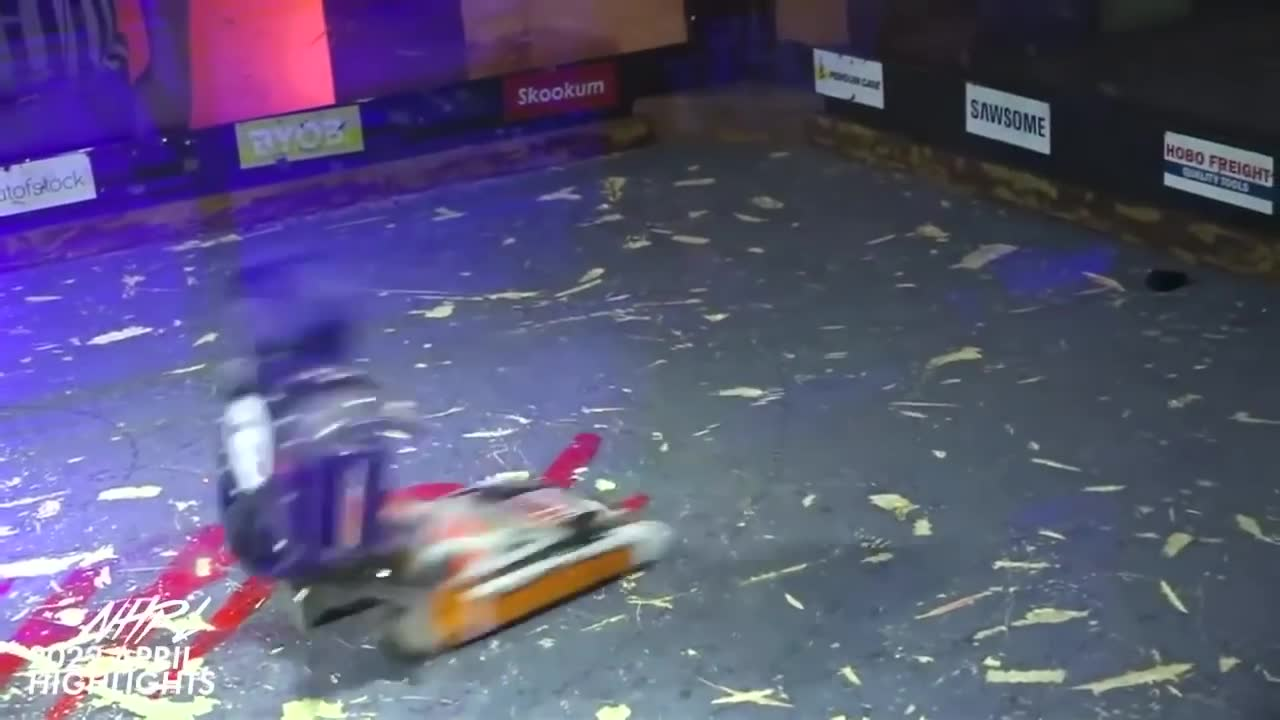combatbot: (287, 426, 669, 666), (211, 315, 383, 572)
